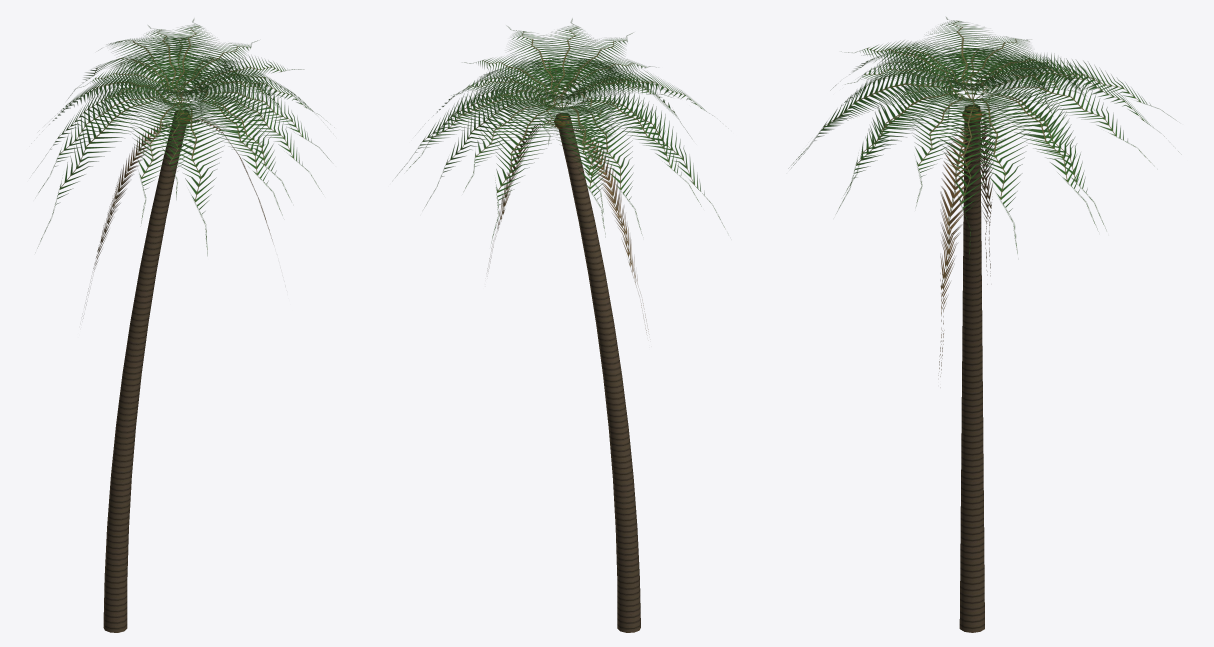
Rendered from palm-b.glb.
The picture shows the model from 3 angles, left to right: view 1: azimuth 30°, elevation 25°; view 2: azimuth 150°, elevation 25°; view 3: azimuth 270°, elevation 25°; orthographic projection. The views are drawn at different scales.
Parts seen in each view (by area): view 1: Palm12; view 2: Palm12; view 3: Palm12.
Part boxes in pixels (bbox=[...]): Palm12: bbox=[37, 19, 330, 632]; Palm12: bbox=[395, 18, 724, 632]; Palm12: bbox=[788, 17, 1178, 632].
Bounding box in the file's own units: 8.43 × 13.14 × 8.34.
4 materials, 3 textured.
